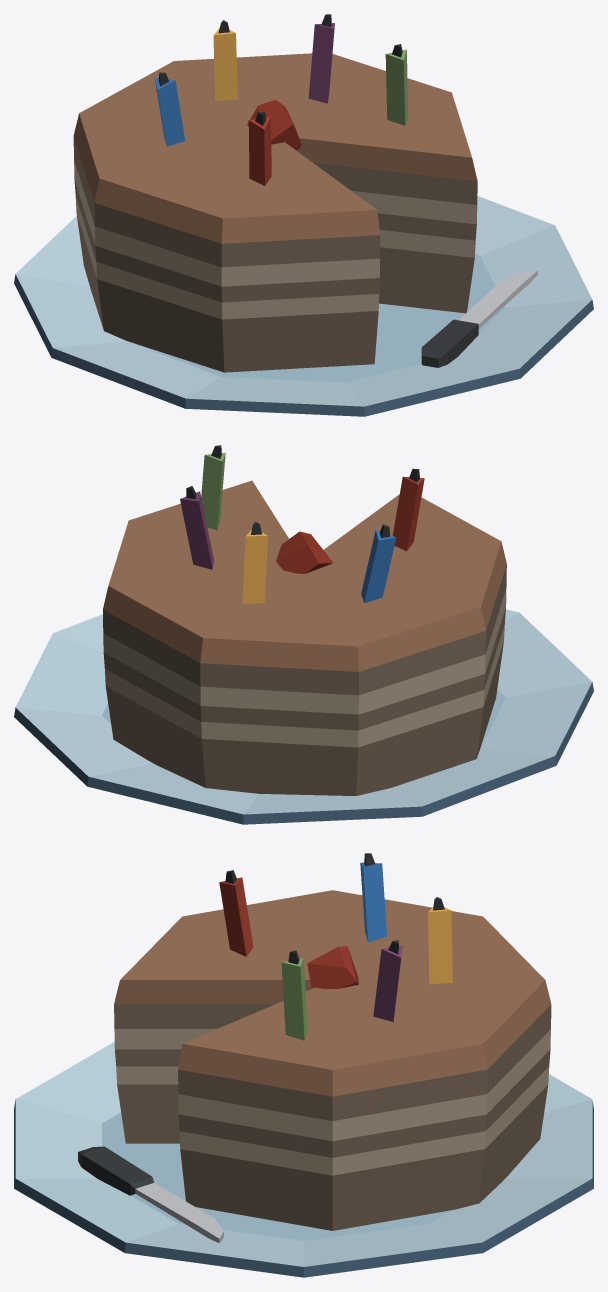
The model's file is SM_Prop_Cake_02.fbx.
The picture shows the model from 3 angles, top to bottom: view 1: azimuth 30°, elevation 25°; view 2: azimuth 150°, elevation 25°; view 3: azimuth 270°, elevation 25°; orthographic projection. The views are drawn at different scales.
Parts seen in each view (by area): view 1: SM_Prop_Cake_02; view 2: SM_Prop_Cake_02; view 3: SM_Prop_Cake_02.
Boxes of the visible parts, <box> form: SM_Prop_Cake_02: <box>14,14,593,416</box>; SM_Prop_Cake_02: <box>14,445,593,824</box>; SM_Prop_Cake_02: <box>14,853,593,1277</box>.
Size of the model in its own units: 55.7 by 28.12 by 52.97.
